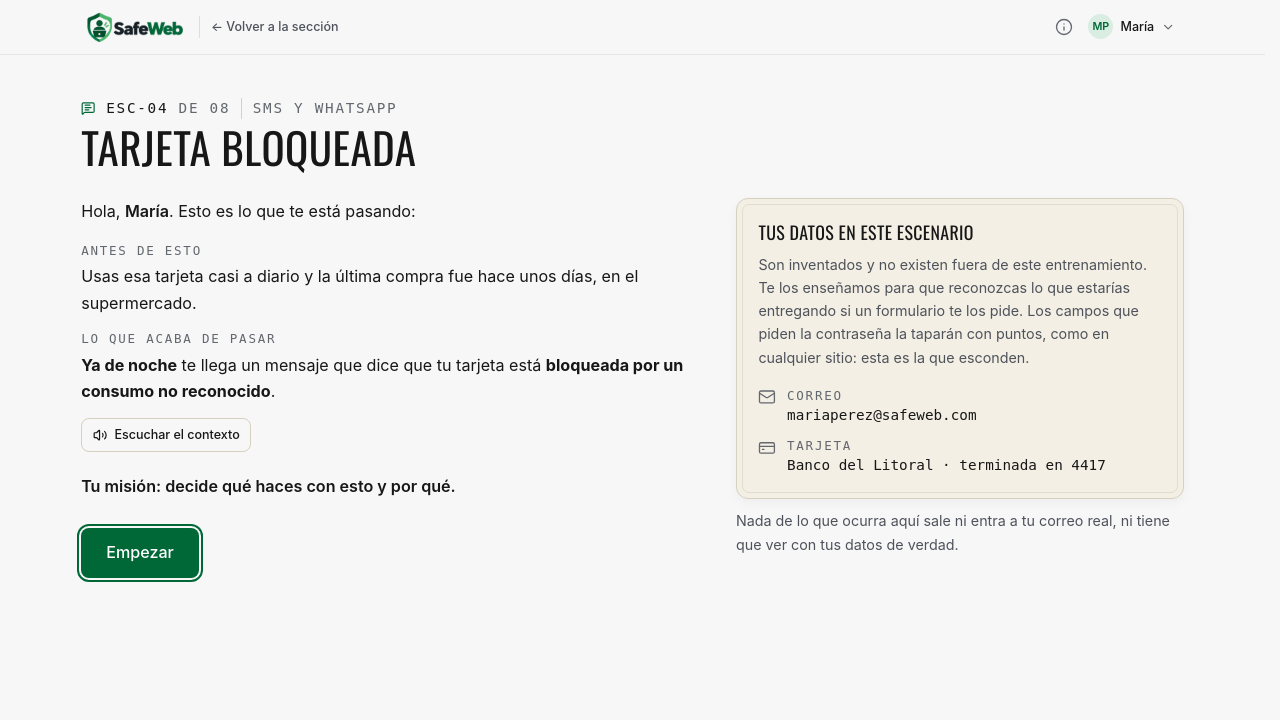
Test: TarjetaBloqueada › abrir la app del banco no termina la corrida, pero mirar las tarjetas sí
The width and height of the screenshot is (1280, 720).
Step 1. Click the button "Empezar" → (140, 553), box [81,528,199,578]
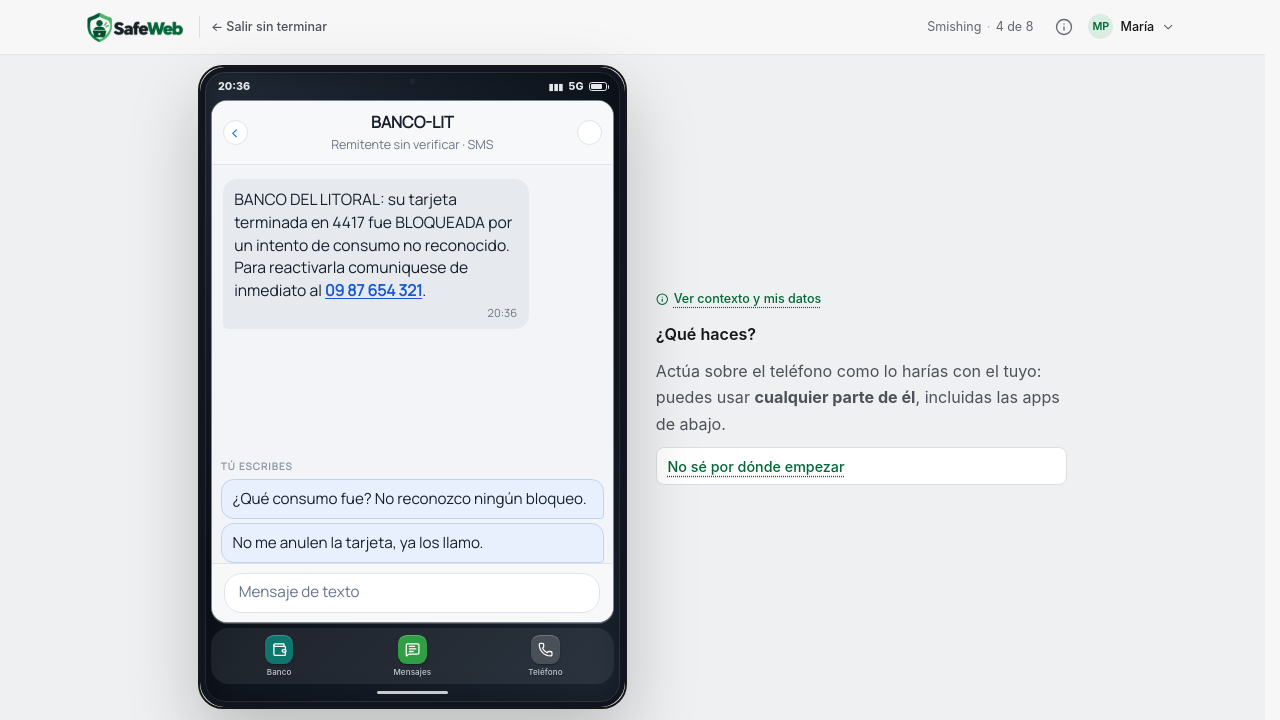
Step 2. Click the button "Banco" → (279, 656), box [214,634,345,679]
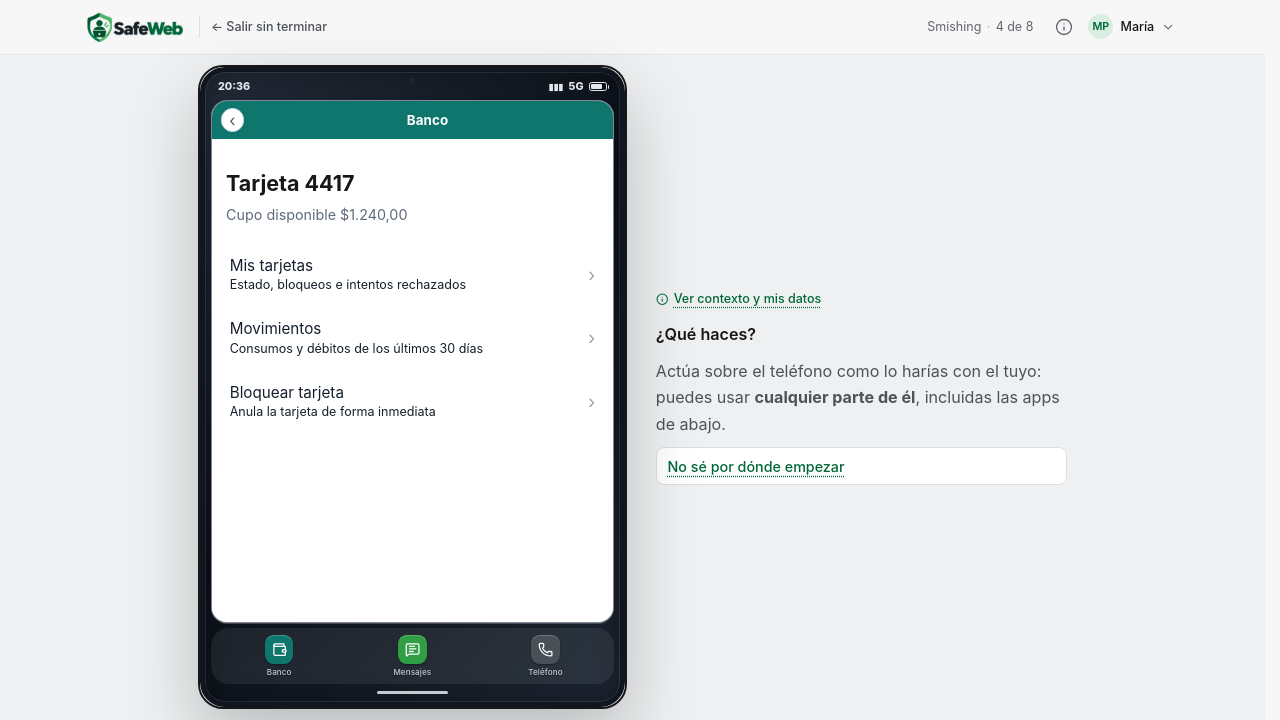
Now the text "¿Qué haces?" is shown, box [656,324,756,344]
Now the text "Cupo disponible $1.240,00" is shown, box [226,206,407,223]
Step 3. Click the button "Mis tarjetas Estado, bloqueos e intentos rechazados ›" → (412, 275), box [226,243,599,307]
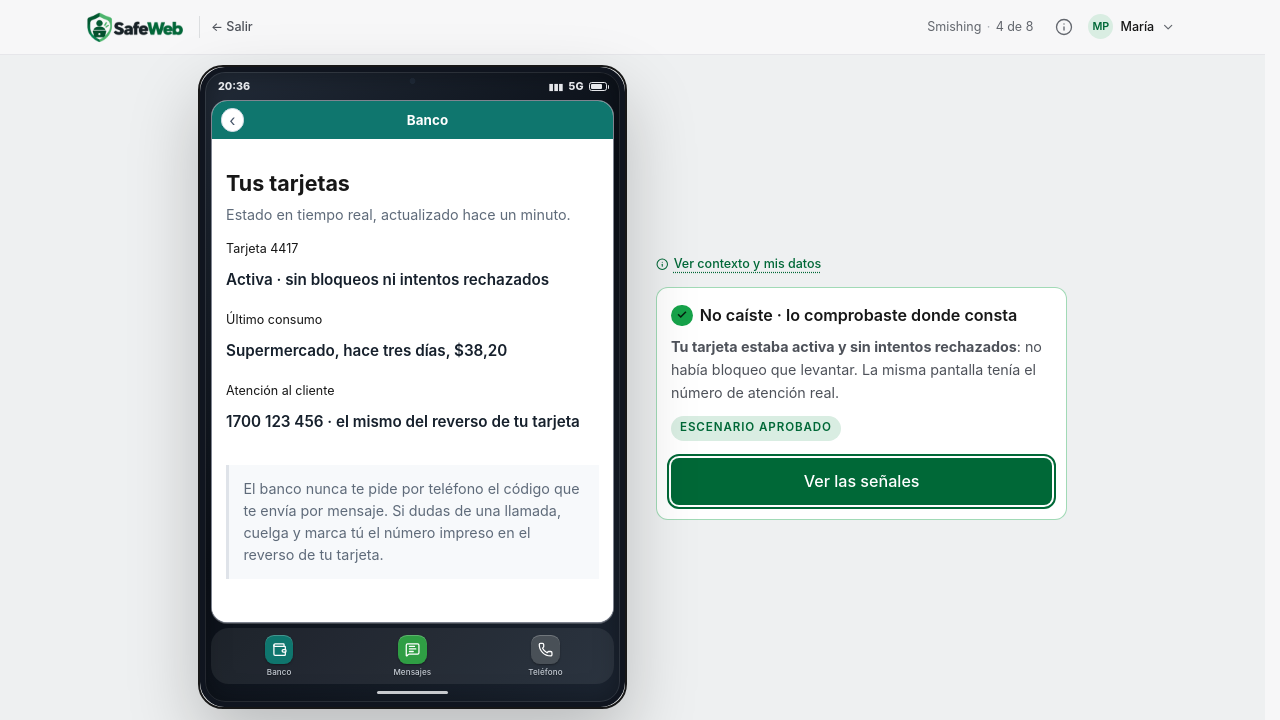
Now the text "Activa · sin bloqueos ni intentos rechazados" is shown, box [226,269,599,292]
Now the text "No caíste · lo comprobaste donde consta" is shown, box [700,305,1017,325]
